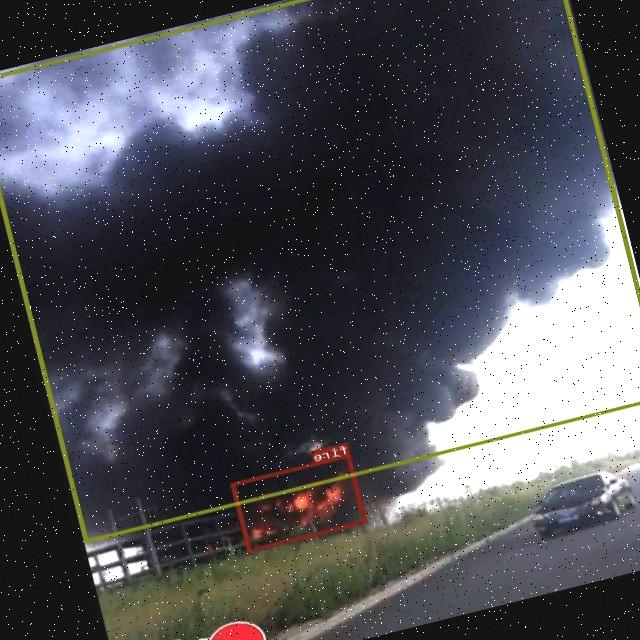fire: (231, 452, 368, 552)
smoke: (0, 0, 640, 542)
